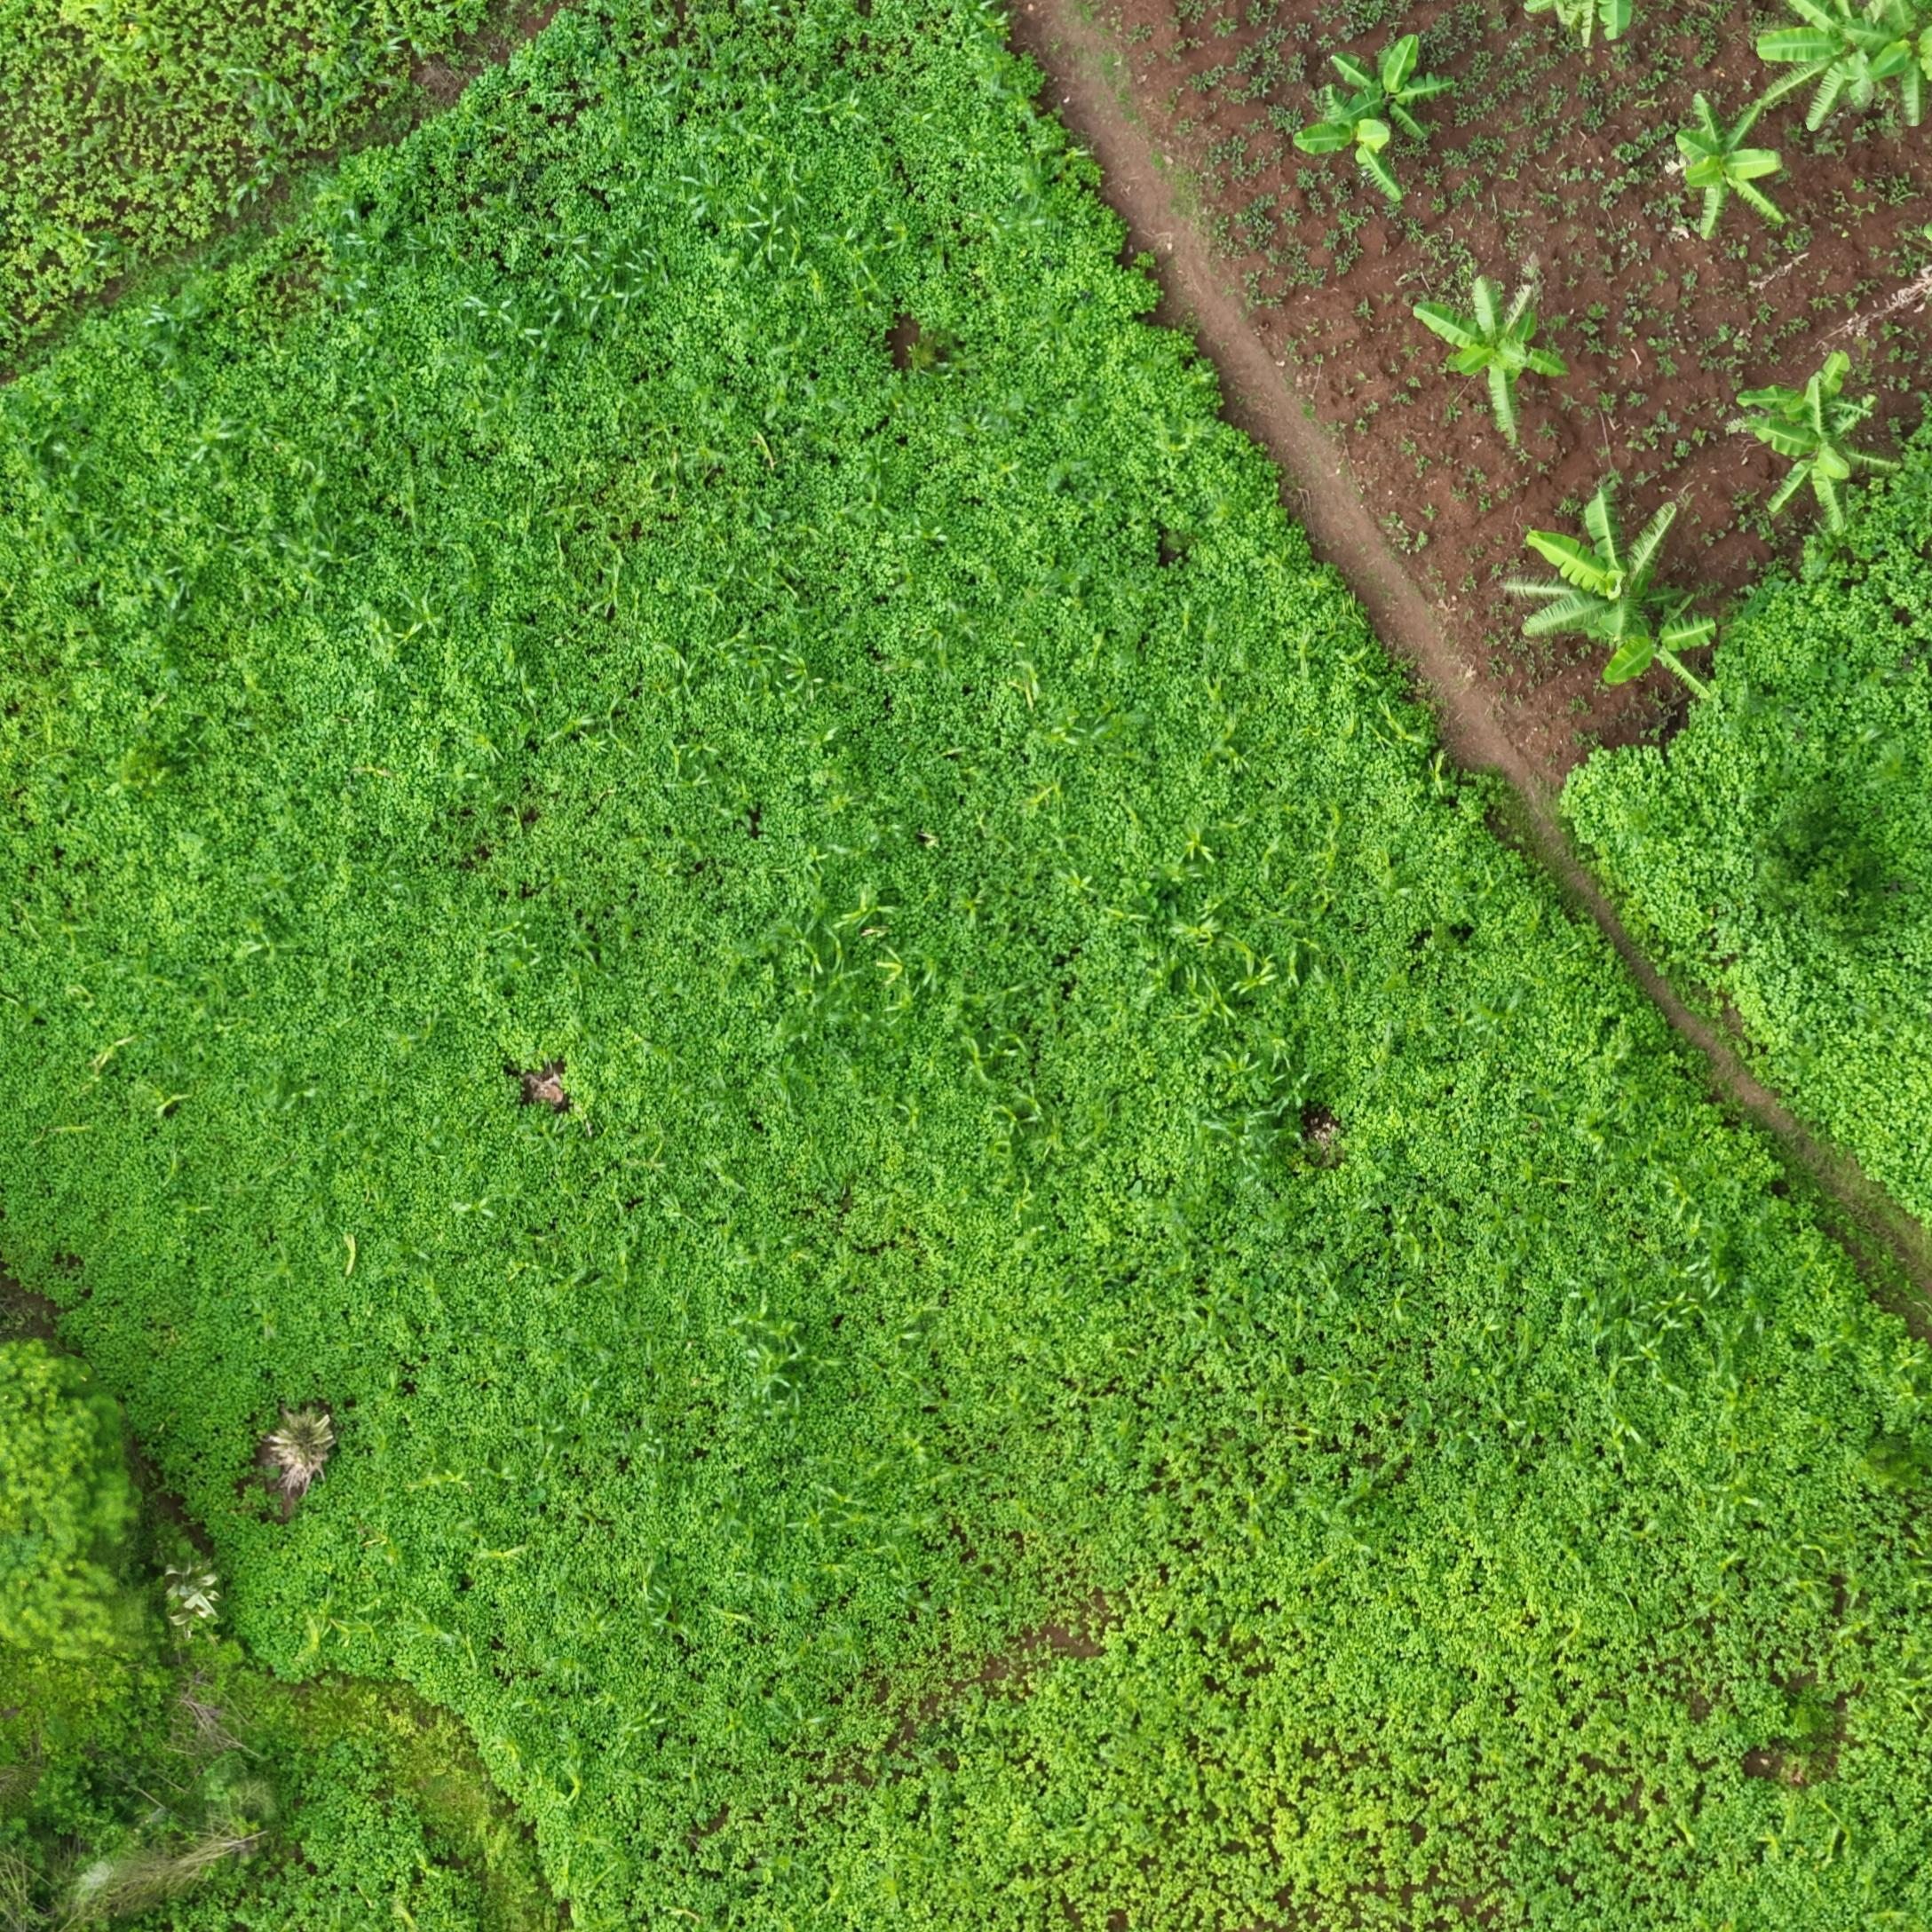Banana: (1576, 517, 1778, 711), (1332, 41, 1502, 200), (1463, 287, 1629, 446), (1721, 87, 1867, 257), (1810, 386, 1932, 533), (1578, 5, 1725, 44)
